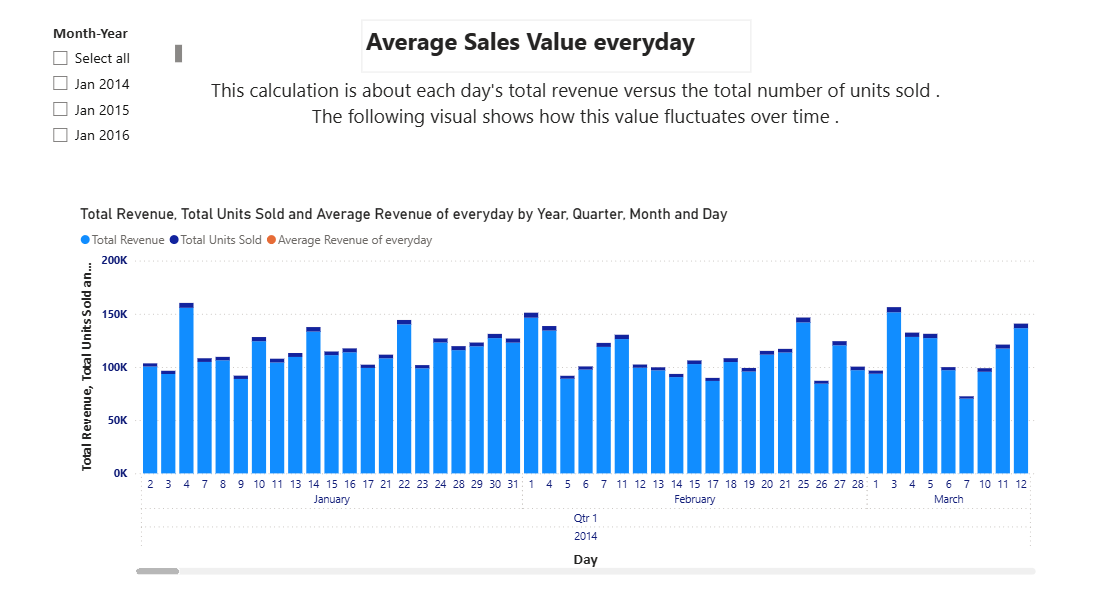

The page's visual inventory and layout, read from the dashboard file:
{"tool":"powerbi","page":{"name":"Average Sales","canvas":[1280,720],"ordinal":2},"visuals":[{"type":"textbox","box":[419.4,23.9,439.1,60.5],"z":0},{"type":"columnChart","fields":{"Category":["CalendarMaster.Date.Variation.Date Hierarchy.Year","CalendarMaster.Date.Variation.Date Hierarchy.Quarter","CalendarMaster.Date.Variation.Date Hierarchy.Month","CalendarMaster.Date.Variation.Date Hierarchy.Day"],"Y":["FactSales.Total Revenue","FactSales.Total Units Sold","FactSales.Average Revenue of everyday"]},"box":[98.5,232.2,1085.1,420.8],"z":1000},{"type":"slicer","fields":{"Values":["CalendarMaster.Month-Year"]},"box":[60.5,23.9,163.3,149.2],"z":2000},{"type":"textbox","box":[202.9,84.3,875.7,75.7],"z":3000}]}

Visuals, with their boxes in screenshot pixels (x1, y1, x2, y2), scaled from the page's 1280x720 canvas onto the 1112x612 screenshot:
textbox: x1=364 y1=20 x2=746 y2=72
columnChart - CalendarMaster.Date.Variation.Date Hierarchy.Year x CalendarMaster.Date.Variation.Date Hierarchy.Quarter: x1=86 y1=197 x2=1028 y2=555
slicer - CalendarMaster.Month-Year: x1=53 y1=20 x2=194 y2=147
textbox: x1=176 y1=72 x2=937 y2=136
